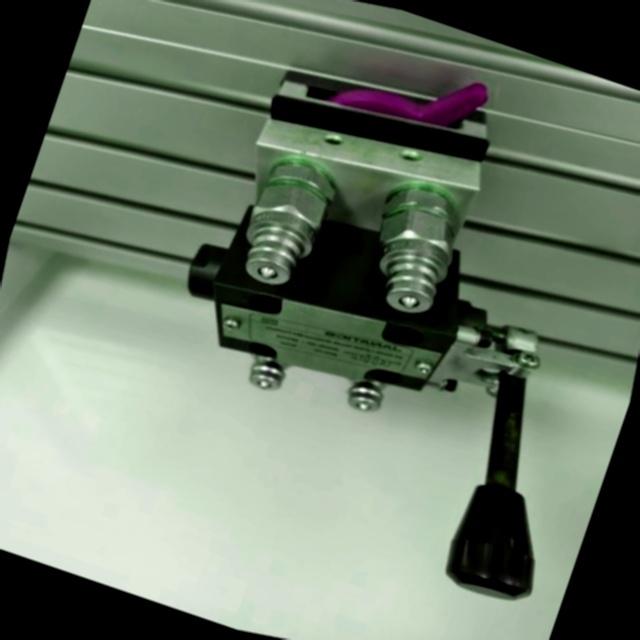4by3 hand lever valve: (64, 0, 640, 640)
